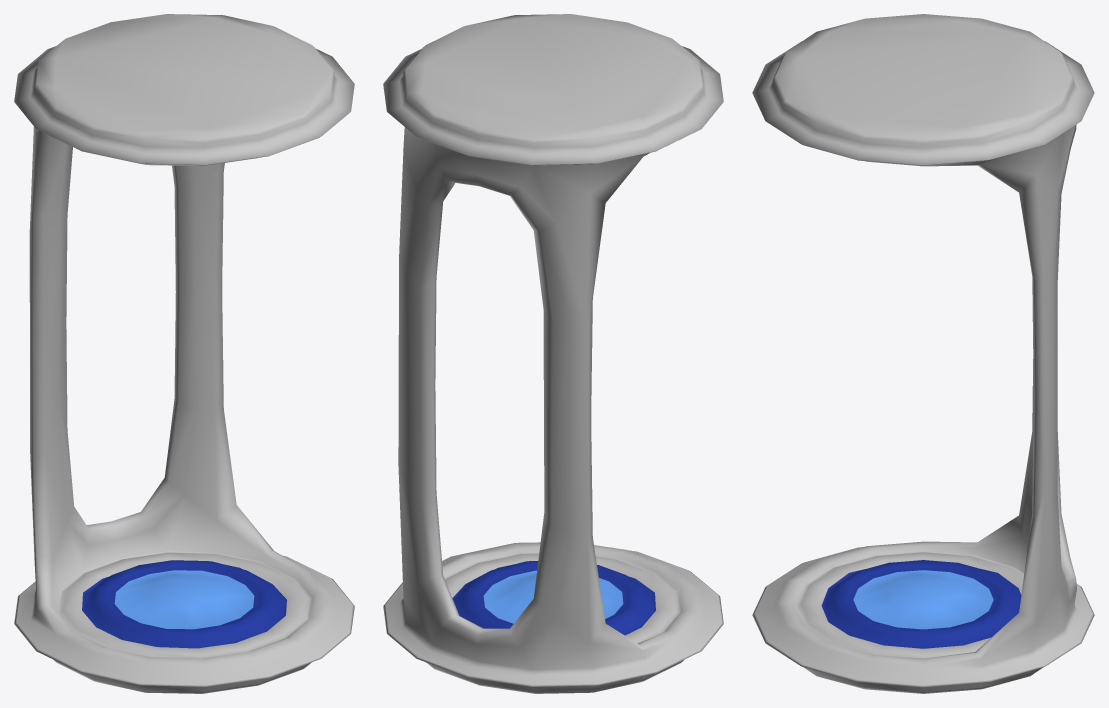
The model's file is GAMEJAMHERO - Prop(Telepoter).fbx.
The picture shows the model from 3 angles, left to right: view 1: azimuth 30°, elevation 25°; view 2: azimuth 150°, elevation 25°; view 3: azimuth 270°, elevation 25°; orthographic projection.
Parts seen in each view (by area): view 1: Cube.006; view 2: Cube.006; view 3: Cube.006.
Part boxes in pixels (x1=…): Cube.006: x1=14, y1=14, x2=354, y2=693; Cube.006: x1=383, y1=14, x2=723, y2=693; Cube.006: x1=752, y1=14, x2=1094, y2=693.
Size of the model in its own units: 206 by 371 by 206.
1 material, 1 textured.
